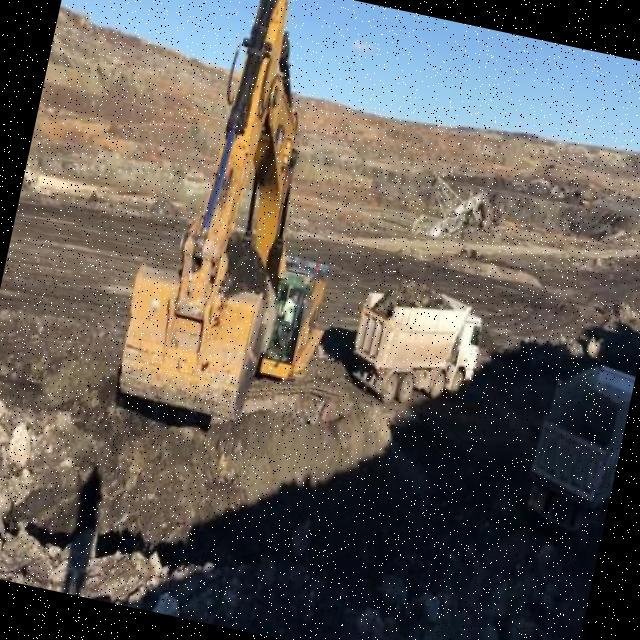Dump Truck: (512, 351, 636, 539), (341, 278, 490, 420)
Excavator: (104, 0, 392, 444)
